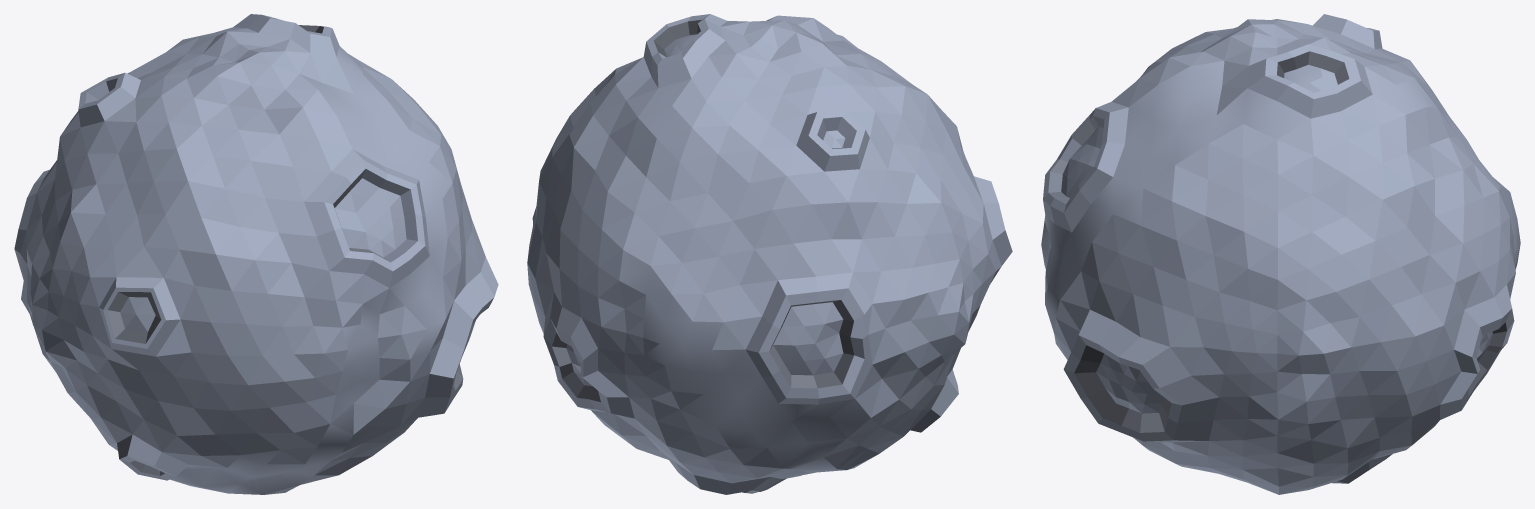
The model's file is moon.glb.
3 renders of one model, left to right at view 1: azimuth 30°, elevation 25°; view 2: azimuth 150°, elevation 25°; view 3: azimuth 270°, elevation 25°, orthographic. The views are drawn at different scales.
Visible parts, largest first — view 1: Moon; view 2: Moon; view 3: Moon.
Boxes of the visible parts, <box> form: Moon: <box>14,14,498,494</box>; Moon: <box>527,14,1012,494</box>; Moon: <box>1041,14,1520,494</box>.
Size of the model in its own units: 19.82 by 20.34 by 19.52.
